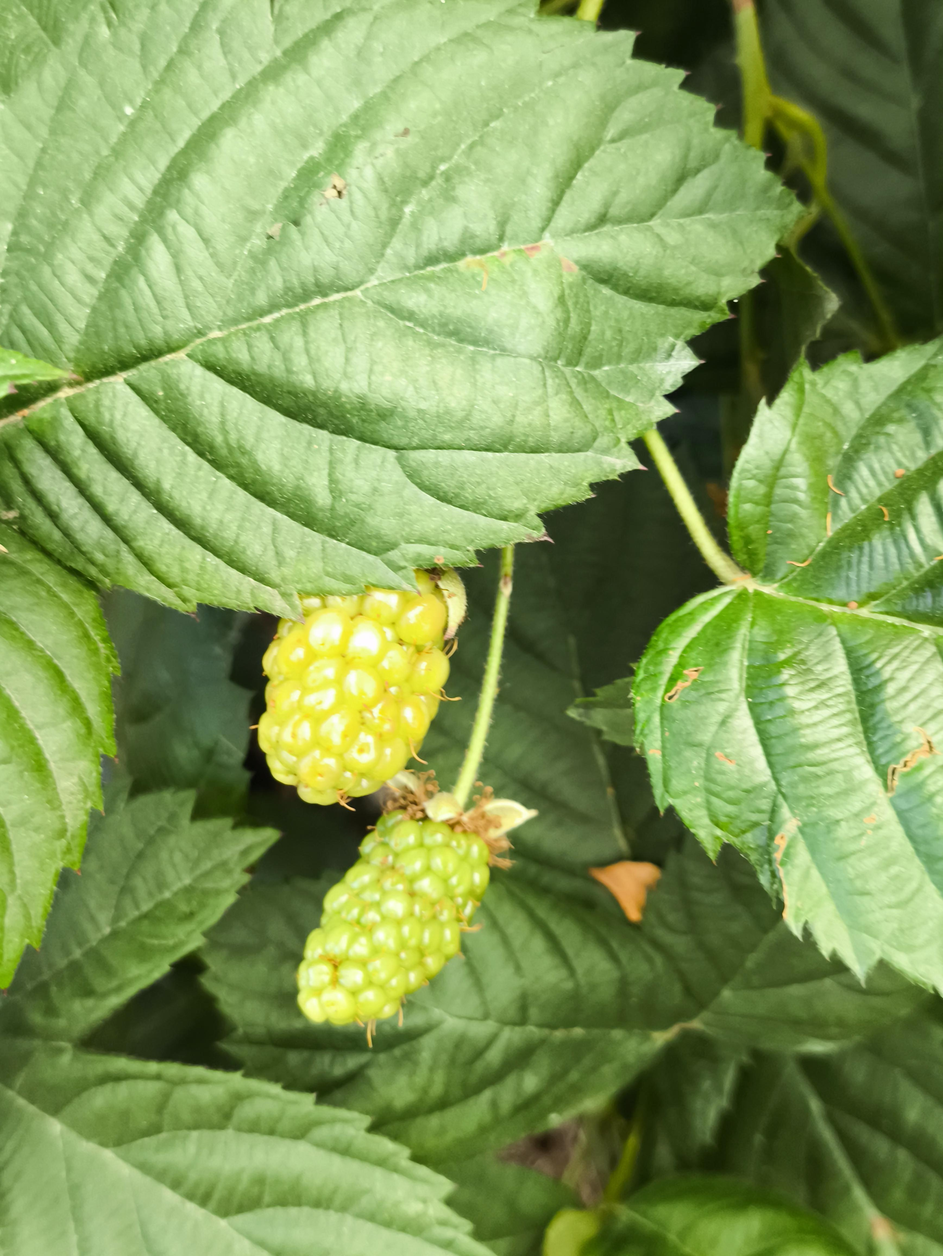verde: (259, 574, 443, 811), (306, 812, 486, 1019)
